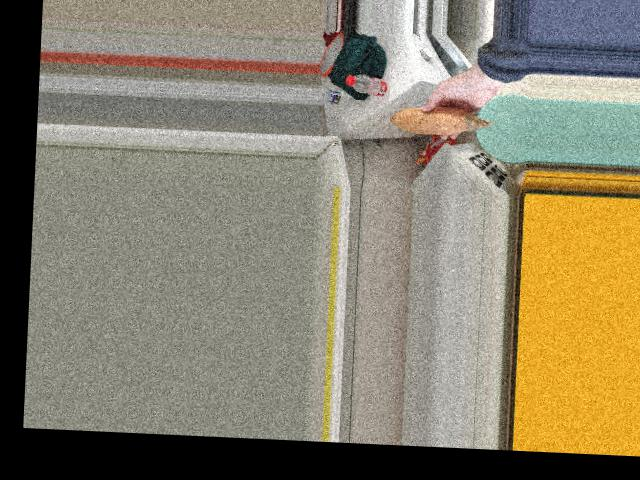sweet_potato: (403, 107, 478, 132)
